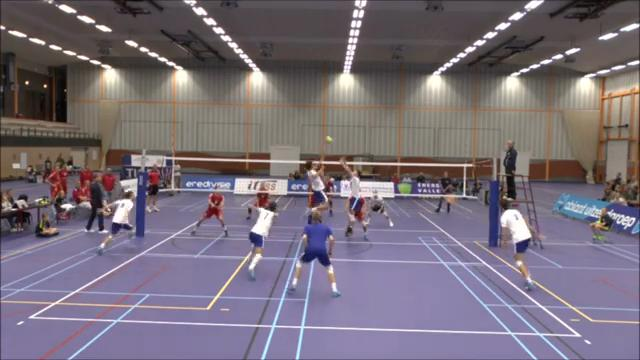alzata: (333, 153, 372, 228)
